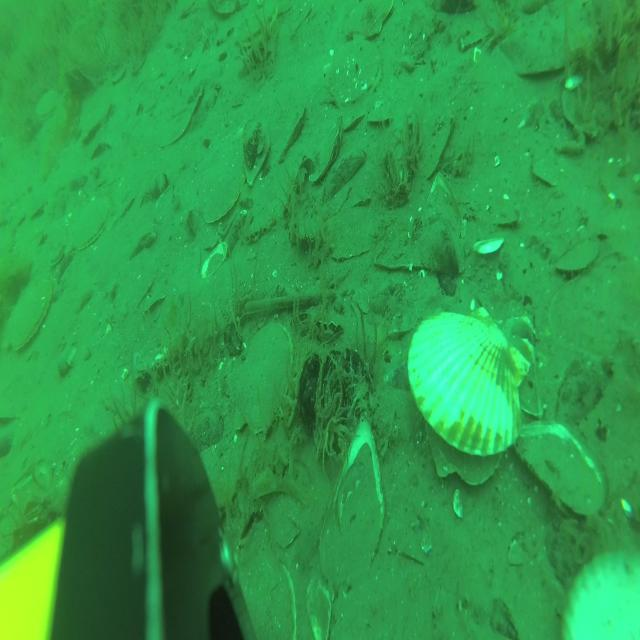scallop: (409, 303, 530, 496), (227, 324, 296, 436), (329, 34, 383, 112), (4, 278, 54, 360), (200, 151, 250, 231), (68, 188, 110, 254), (303, 115, 343, 182), (554, 235, 600, 277), (278, 104, 306, 166), (79, 94, 112, 143), (42, 229, 66, 271), (369, 102, 391, 131), (343, 103, 364, 131)
